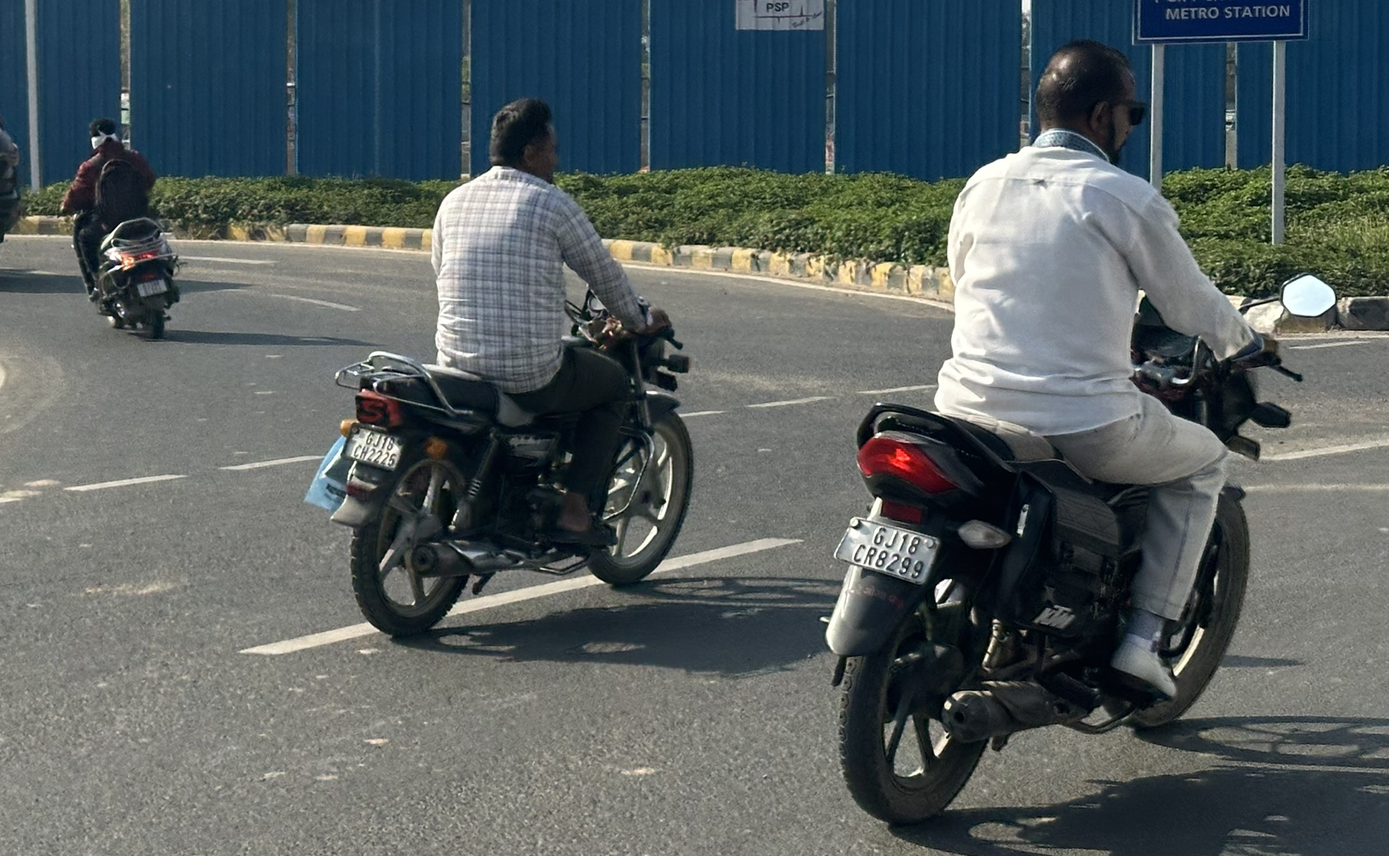BikeWithRider: (809, 29, 1344, 837), (291, 87, 710, 647), (57, 109, 193, 346)
NoHelmet: (1018, 30, 1157, 169), (479, 89, 572, 188), (83, 113, 126, 162)
